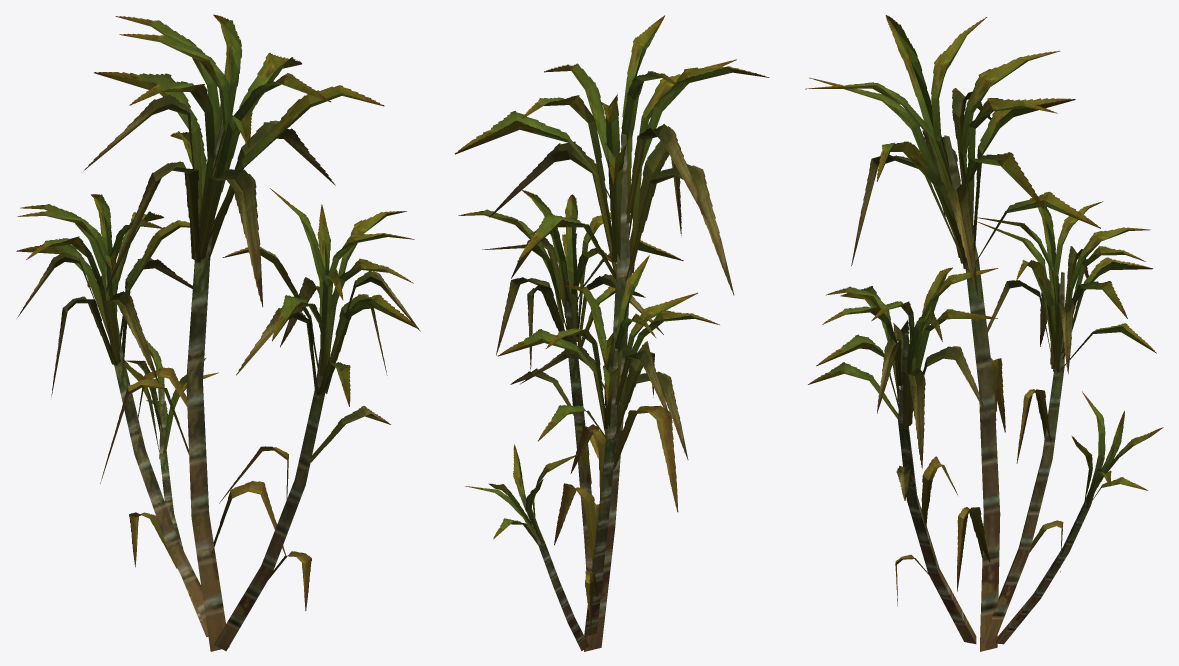
Rendered from bg_anh_tree_te_t45_sm_old.FBX.
3 views of the same model, side by side, from view 1: azimuth 30°, elevation 25°; view 2: azimuth 150°, elevation 25°; view 3: azimuth 270°, elevation 25° (orthographic). The views are drawn at different scales.
Parts seen in each view (by area): view 1: bg_anh_tree_te_t45_sm_old; view 2: bg_anh_tree_te_t45_sm_old; view 3: bg_anh_tree_te_t45_sm_old.
Boxes of the visible parts, left/top/right/bottom form: bg_anh_tree_te_t45_sm_old: left=16, top=14, right=420, bottom=651; bg_anh_tree_te_t45_sm_old: left=454, top=15, right=769, bottom=651; bg_anh_tree_te_t45_sm_old: left=805, top=15, right=1163, bottom=651.
Size of the model in its own units: 155 by 279 by 156.
